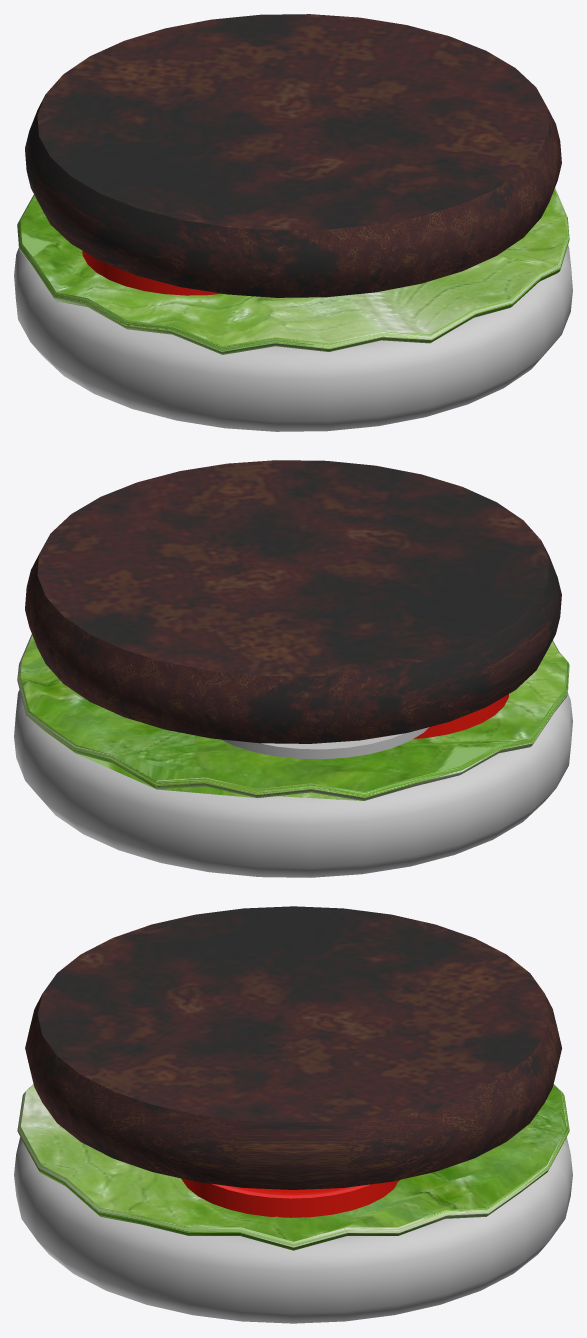
File: Burger-Bottom.fbx
3 renders of one model, top to bottom at view 1: azimuth 30°, elevation 25°; view 2: azimuth 150°, elevation 25°; view 3: azimuth 270°, elevation 25°, orthographic.
Visible parts, largest first — view 1: Patty, Bun-bottom, Lettuce, tomato.005; view 2: Patty, Bun-bottom, Lettuce, onion.002, tomato.005; view 3: Patty, Bun-bottom, Lettuce, tomato.004.
Part boxes in pixels (left/top/right/bottom): Patty: left=25, top=14, right=561, bottom=297; Bun-bottom: left=14, top=245, right=572, bottom=431; Lettuce: left=17, top=188, right=569, bottom=354; tomato.005: left=82, top=250, right=221, bottom=295; Patty: left=25, top=460, right=561, bottom=743; Bun-bottom: left=14, top=690, right=572, bottom=877; Lettuce: left=17, top=634, right=569, bottom=800; onion.002: left=220, top=727, right=429, bottom=759; tomato.005: left=414, top=694, right=508, bottom=738; Patty: left=25, top=906, right=561, bottom=1189; Bun-bottom: left=14, top=1137, right=572, bottom=1323; Lettuce: left=17, top=1084, right=569, bottom=1250; tomato.004: left=181, top=1178, right=399, bottom=1217.
Bounding box in the file's own units: 186 × 76.68 × 186.
